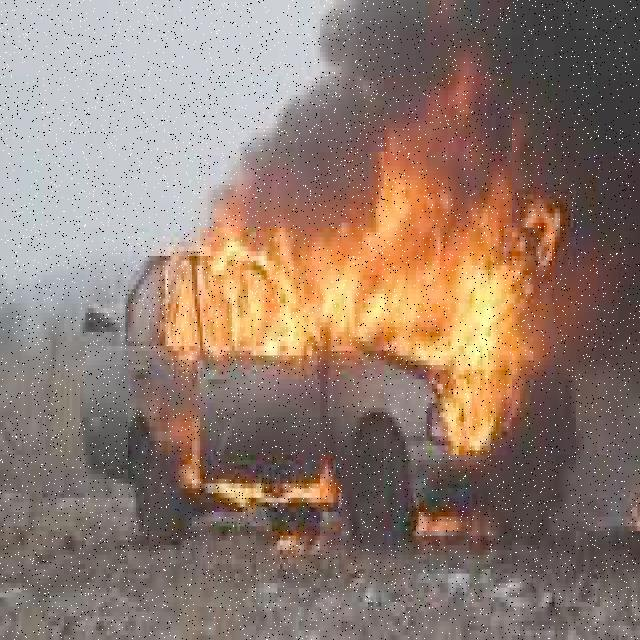fire: (168, 183, 562, 445)
smoke: (323, 11, 640, 134)
